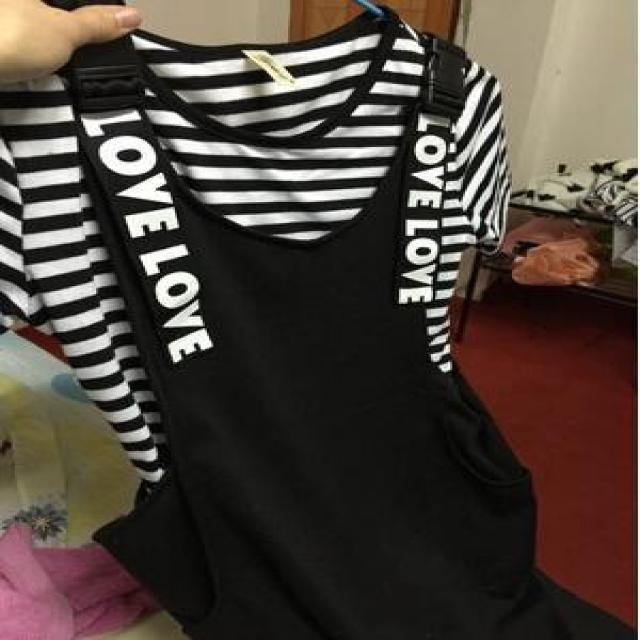short-sleeve-dress: (32, 35, 617, 615)
